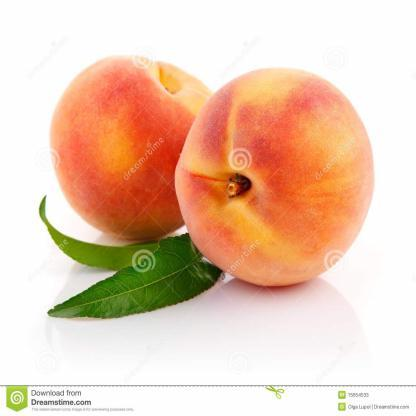Peach leaf: (42, 238, 228, 326), (34, 194, 172, 270)
